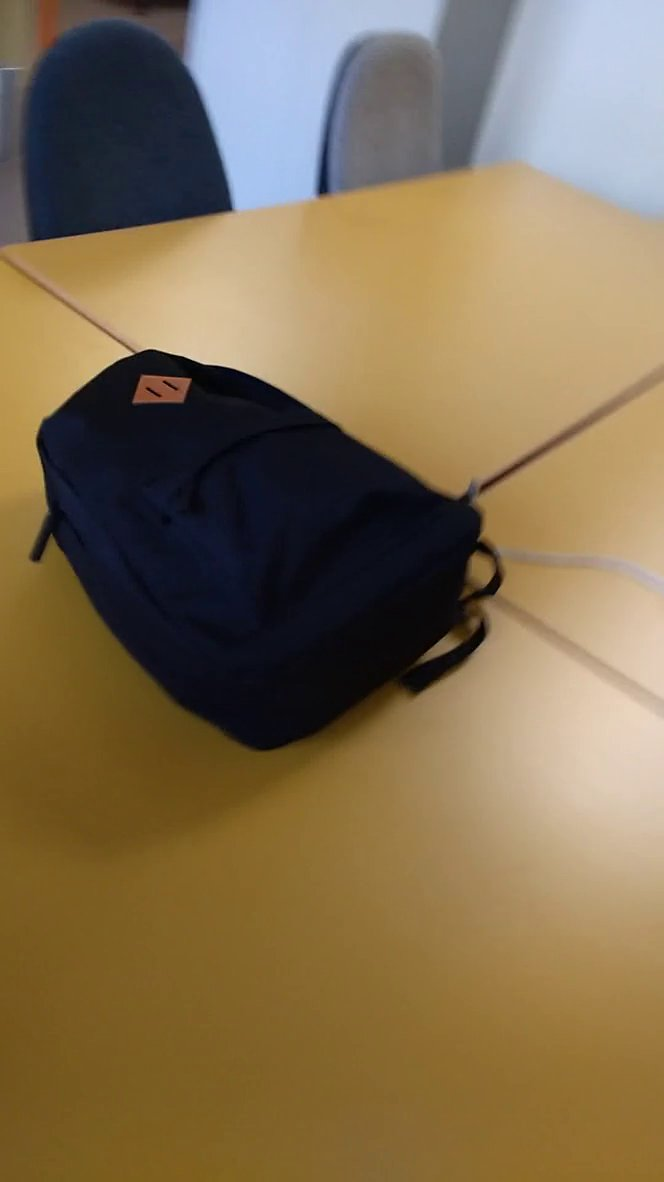bag: (1, 322, 521, 766)
chair: (5, 13, 248, 237), (305, 18, 475, 218)
